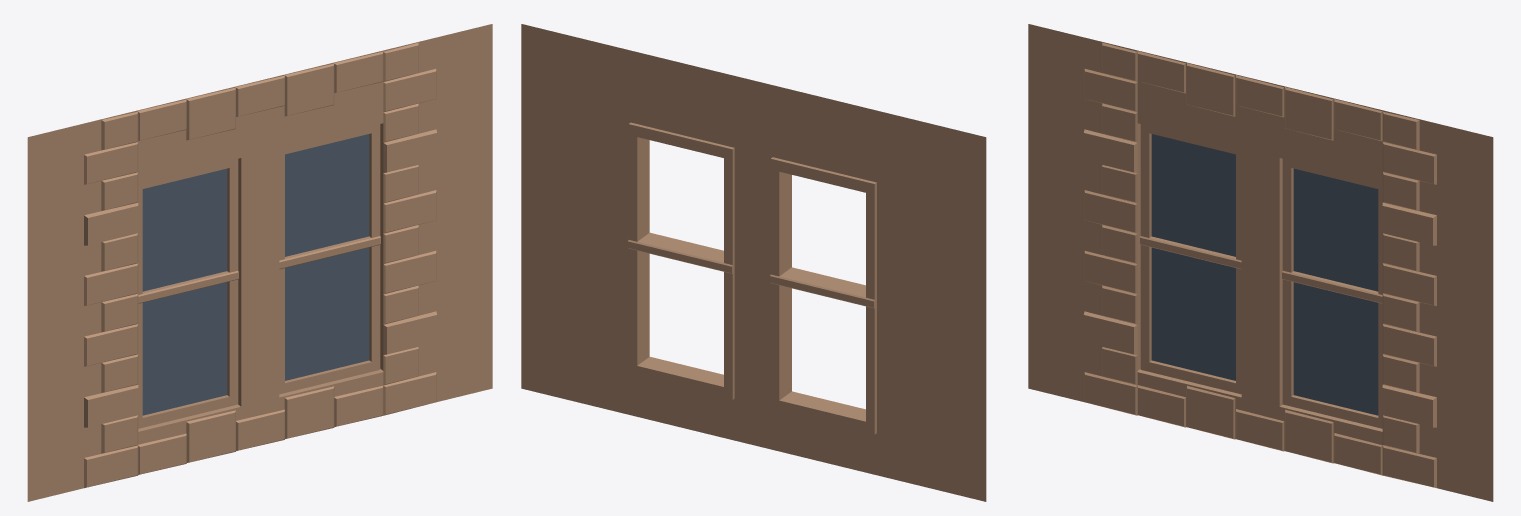
File: env_block_brick_red_white_double_window.glb
3 views of the same model, side by side, from view 1: azimuth 30°, elevation 25°; view 2: azimuth 150°, elevation 25°; view 3: azimuth 330°, elevation 25° (orthographic).
Visible parts, largest first — view 1: part_0, part_1; view 2: part_0; view 3: part_0, part_1.
Part boxes in pixels (x1,y1,x2,y2): part_0: (27,24,492,501); part_1: (142,134,369,415); part_0: (521,24,986,501); part_0: (1028,24,1493,501); part_1: (1151,134,1378,415).
Bounding box in the file's own units: 4 × 3 × 0.2773.
